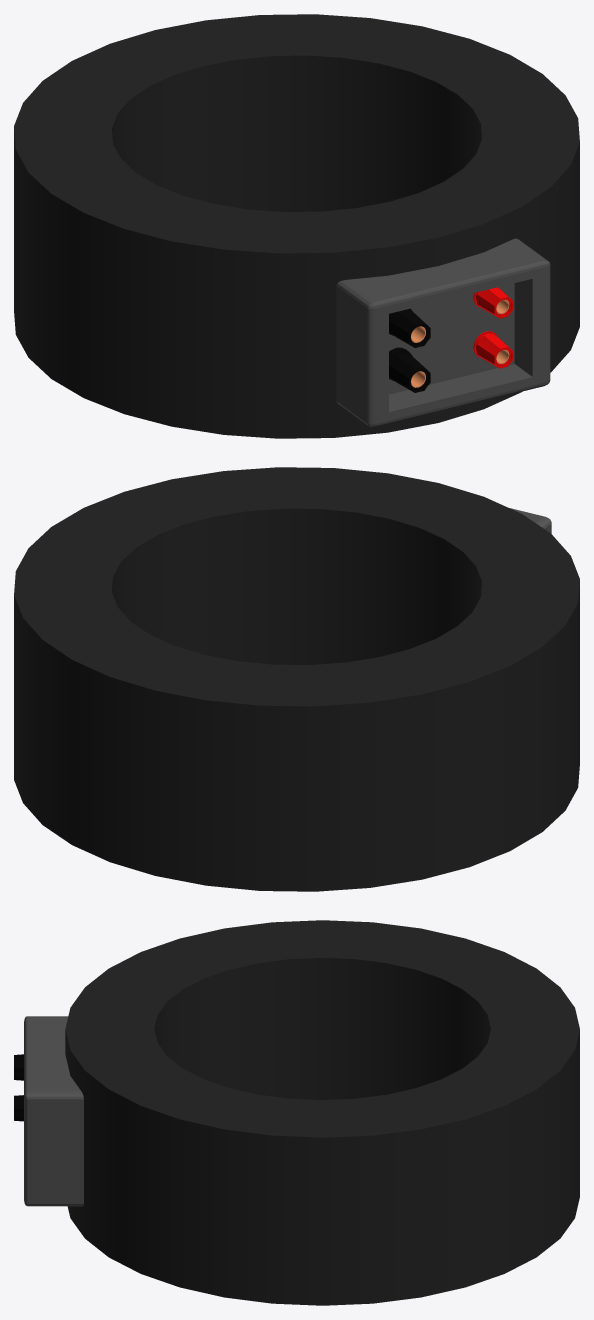
The model's file is machinelab_current_Transformer.fbx.
3 renders of one model, top to bottom at view 1: azimuth 30°, elevation 25°; view 2: azimuth 150°, elevation 25°; view 3: azimuth 270°, elevation 25°, orthographic. The views are drawn at different scales.
Parts seen in each view (by area): view 1: Cylinder.006, Cube, model_0.020, model_0.019, model_0.022, model_0.021; view 2: Cylinder.006; view 3: Cylinder.006, Cube.
Boxes of the visible parts, x1,y1,x2,y2 form: Cylinder.006: [14, 14, 579, 438]; Cube: [336, 238, 550, 427]; model_0.020: [389, 347, 430, 392]; model_0.019: [389, 308, 430, 347]; model_0.022: [473, 331, 513, 368]; model_0.021: [473, 287, 513, 318]; Cylinder.006: [14, 467, 579, 891]; Cylinder.006: [65, 920, 579, 1305]; Cube: [24, 1016, 83, 1206].
Size of the model in its own units: 200 by 72.39 by 220.
Materials: 3 (1 with a texture image).
